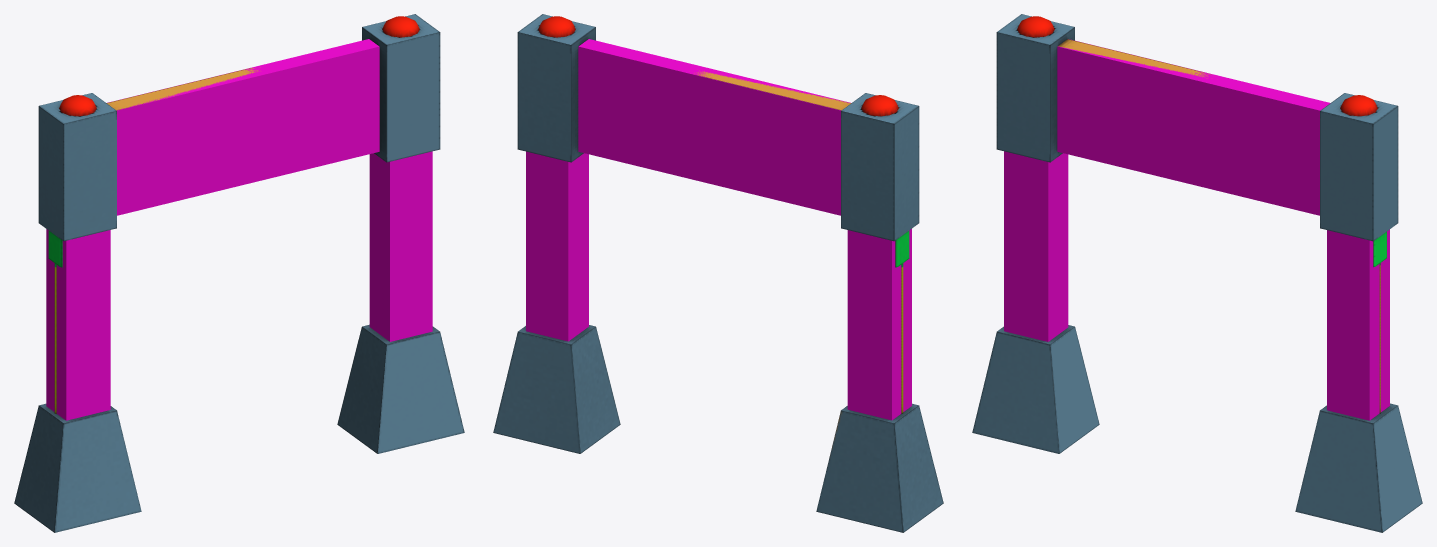
Rendered from barrierHigh.FBX.
3 views of the same model, side by side, from view 1: azimuth 30°, elevation 25°; view 2: azimuth 150°, elevation 25°; view 3: azimuth 330°, elevation 25° (orthographic).
Visible parts, largest first — view 1: barrierHigh, INVIS_OBSTACLE_barrier_high_02, INVIS_OBSTACLE_barrier_high_01, INVIS_OBSTACLE_barrier_high_03; view 2: barrierHigh, INVIS_OBSTACLE_barrier_high_02, INVIS_OBSTACLE_barrier_high_01, INVIS_OBSTACLE_barrier_high_03; view 3: barrierHigh, INVIS_OBSTACLE_barrier_high_02, INVIS_OBSTACLE_barrier_high_03, INVIS_OBSTACLE_barrier_high_01.
Part boxes in pixels (x1,y1,x2,y2): barrierHigh: (14, 14, 464, 532); INVIS_OBSTACLE_barrier_high_02: (107, 39, 379, 215); INVIS_OBSTACLE_barrier_high_01: (369, 151, 432, 341); INVIS_OBSTACLE_barrier_high_03: (46, 229, 110, 420); barrierHigh: (493, 14, 943, 532); INVIS_OBSTACLE_barrier_high_02: (578, 39, 850, 215); INVIS_OBSTACLE_barrier_high_01: (526, 151, 588, 341); INVIS_OBSTACLE_barrier_high_03: (847, 229, 911, 420); barrierHigh: (972, 14, 1422, 532); INVIS_OBSTACLE_barrier_high_02: (1057, 39, 1330, 215); INVIS_OBSTACLE_barrier_high_03: (1004, 151, 1068, 341); INVIS_OBSTACLE_barrier_high_01: (1327, 229, 1389, 420).
Bounding box in the file's own units: 35.14 × 33.57 × 5.99.
